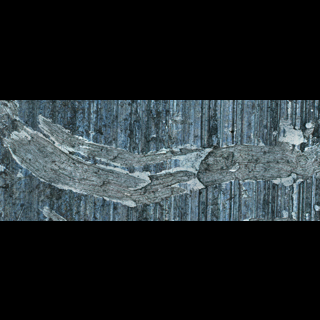d: (51, 137, 180, 209), (159, 139, 261, 201), (2, 103, 76, 181), (261, 111, 320, 194), (279, 200, 320, 220)
